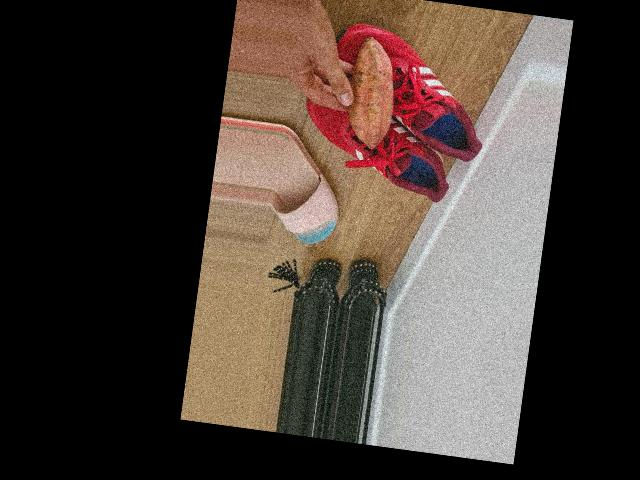sweet_potato: (343, 35, 402, 150)
